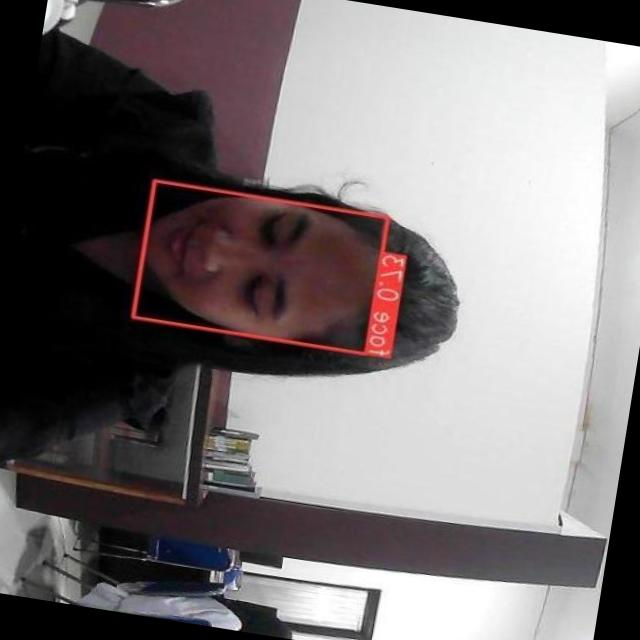bareface: (148, 182, 440, 374)
